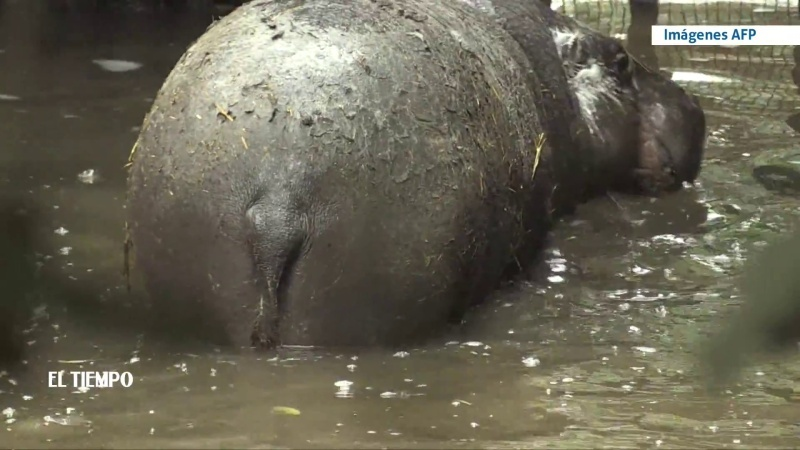hipopotamo: (102, 1, 733, 368)
